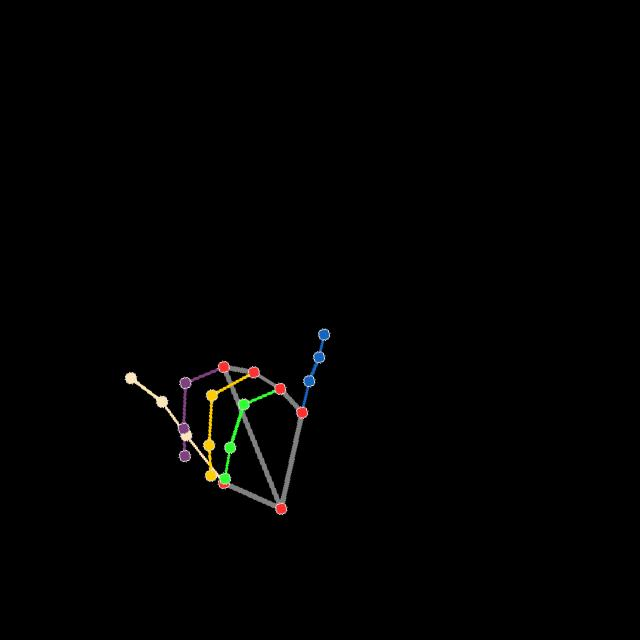skr: (122, 321, 334, 518)
